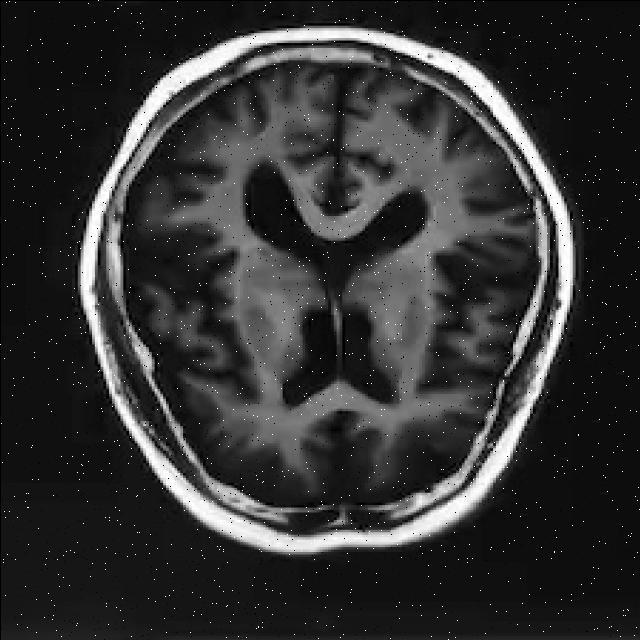No_Tumor: (80, 27, 576, 553)
